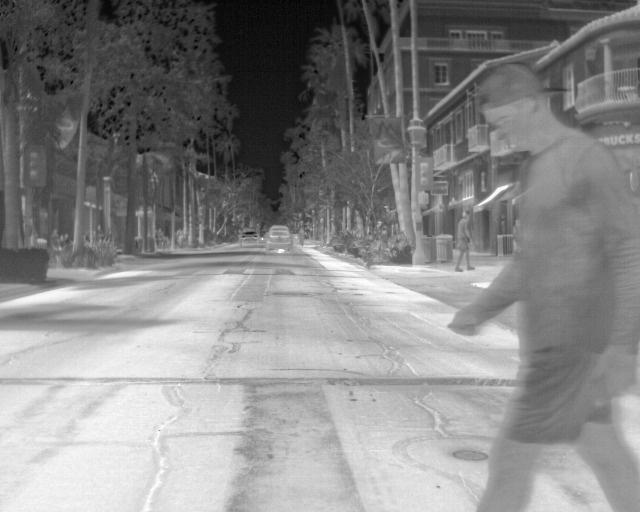bicycle: (266, 223, 293, 251), (238, 228, 264, 247)
empty: (445, 64, 639, 511), (452, 208, 474, 272), (48, 229, 63, 253)
